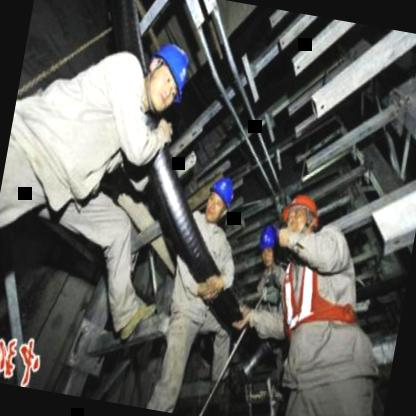helmet: (136, 35, 197, 117), (276, 191, 323, 242), (200, 170, 238, 226), (254, 223, 282, 273)
